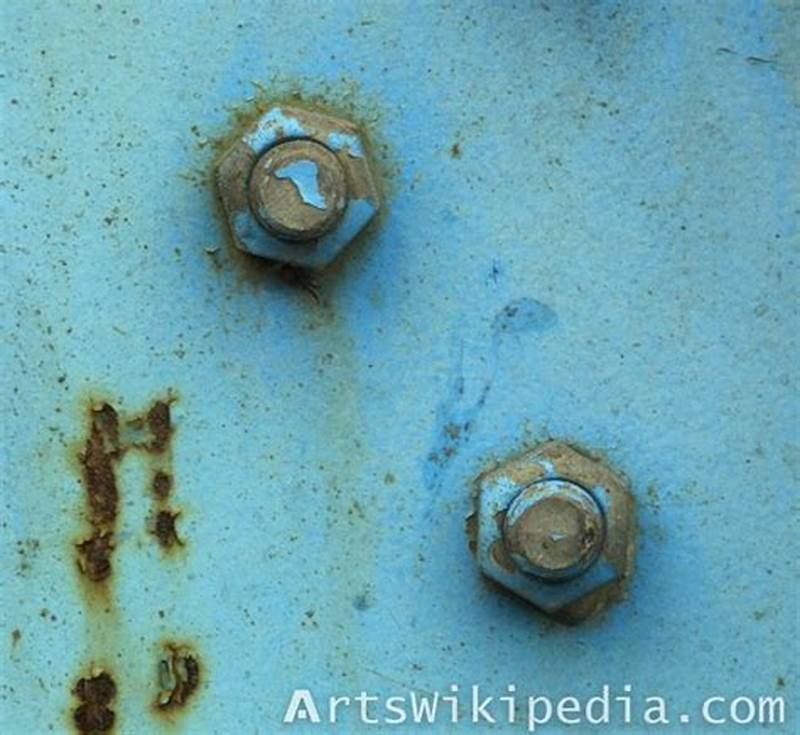bolt_b: (211, 100, 382, 278), (472, 431, 633, 617)
